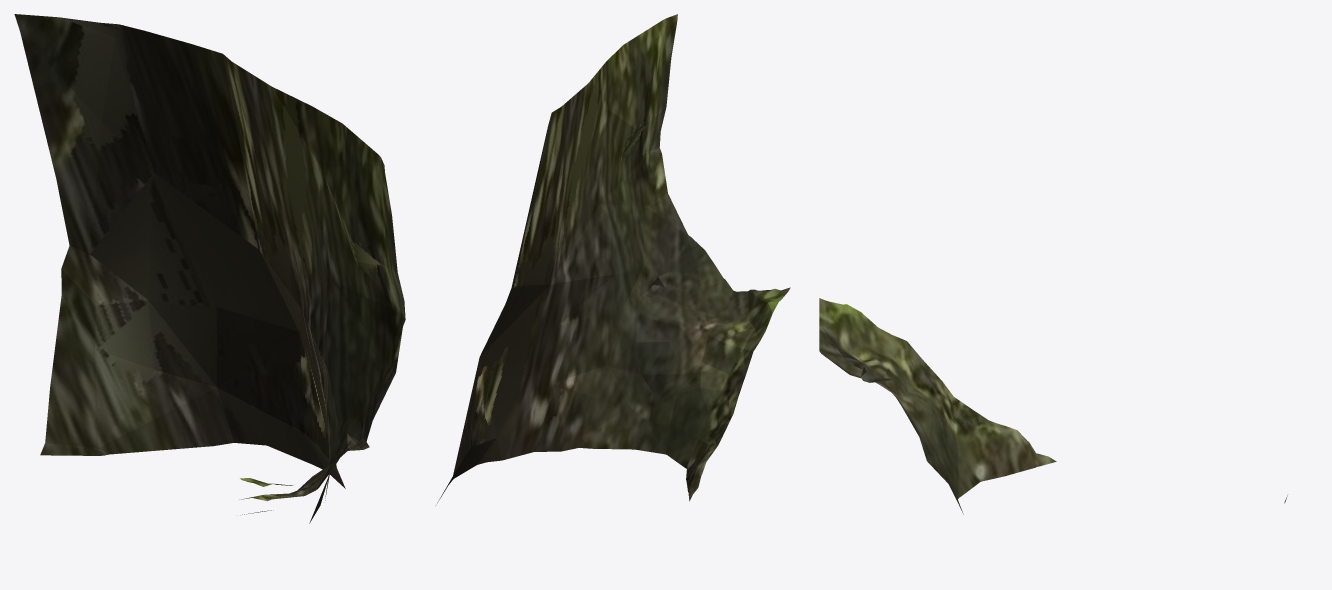
3 views of the same model, side by side, from view 1: azimuth 30°, elevation 25°; view 2: azimuth 150°, elevation 25°; view 3: azimuth 270°, elevation 25° (orthographic). The views are drawn at different scales.
Bounding box in the file's own units: 1.6 × 2.95 × 2.95.
Materials: 3 (3 with a texture image).
